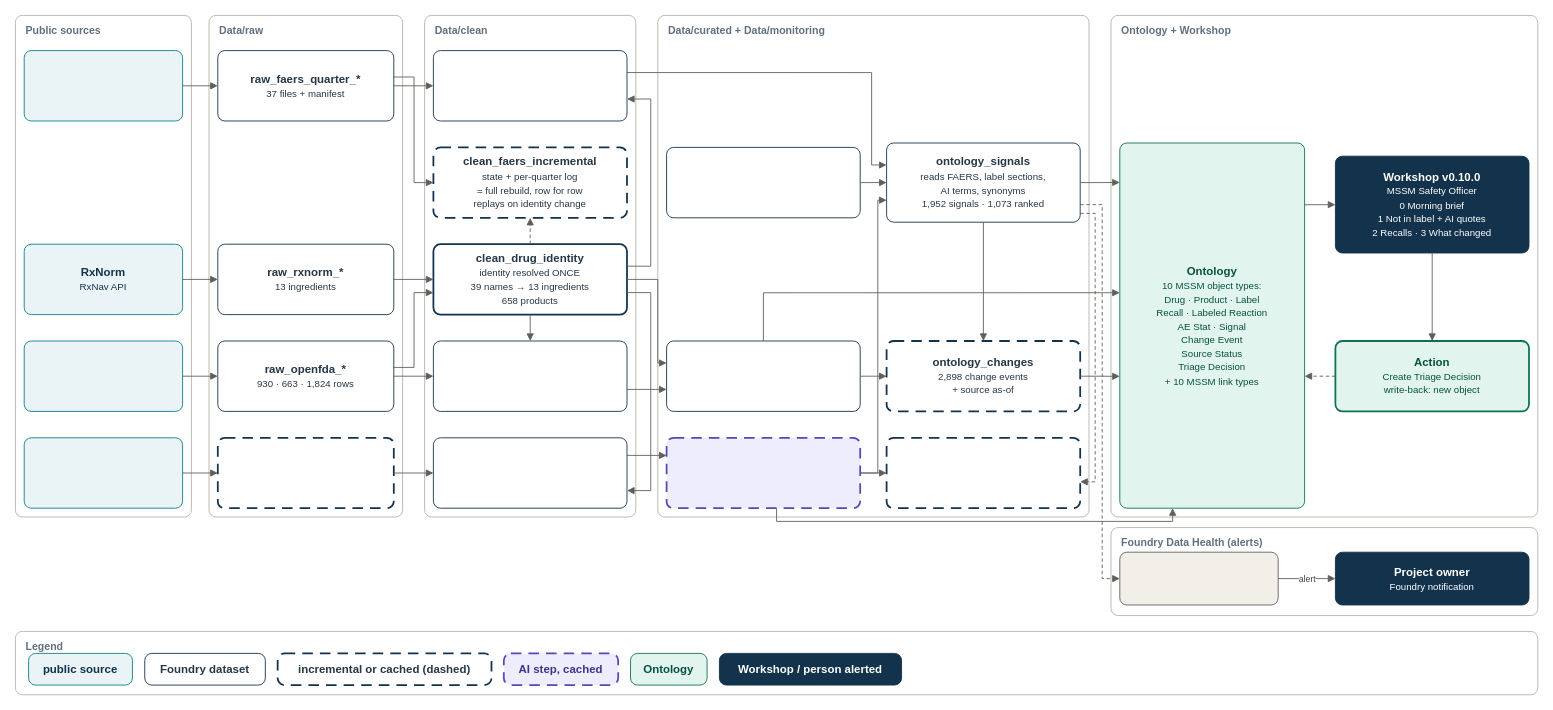
The diagram is 1553 pixels wide and 710 high, and some of its shapes have lost their labels. The centre of each missing label's shape, as x and y in pixels:
"AI label extraction Sonnet 5.5, cached · 5 labels 745 / 745 quotes grounded" goes at point 763,472.
"clean_faers (full) 792,346 current cases feeds signals (D044)" goes at point 530,85.
"clean_labels 1,321 versions 5,431 safety sections" goes at point 530,472.
"clean_recalls 900 recalls · 126 active + product match" goes at point 530,375.
"DailyMed label SPL XML" goes at point 103,472.
"Data Health: 4 checks build status + primary key" goes at point 1198,578.
"FAERS quarterly files 2026Q1 + Q2" goes at point 103,85.
"label_synonyms syn_v2 · 258 reviewed rows" goes at point 763,182.
"monitoring 21 checks per build + drift replay" goes at point 983,472.
"ontology_objects drugs · products · labels recalls · link tables" goes at point 763,375.
"openFDA recalls · Drugs@FDA NDC" goes at point 103,375.
"raw_dailymed_spl_* 1,321 labels O3 XML reuse: 2 downloads" goes at point 305,472.
